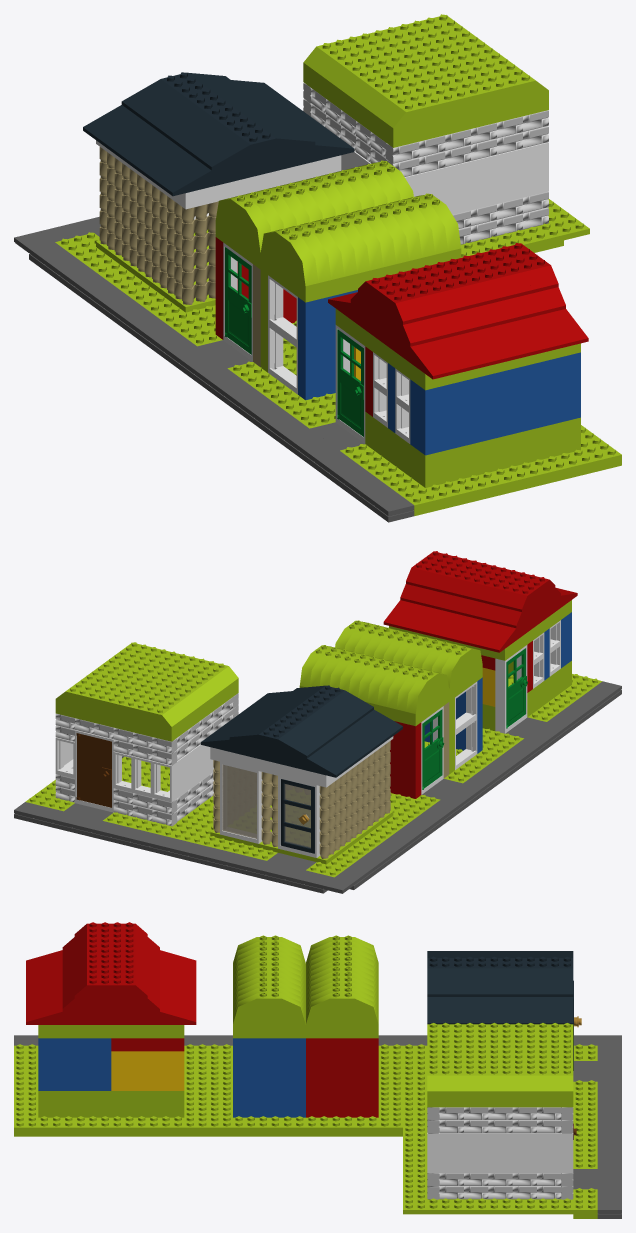
Rendered from Block5-lod2.fbx.
The picture shows the model from 3 angles, top to bottom: view 1: azimuth 30°, elevation 25°; view 2: azimuth 150°, elevation 25°; view 3: azimuth 270°, elevation 25°; orthographic projection. The views are drawn at different scales.
Parts seen in each view (by area): view 1: Material_119, Material_21, Material_26, Material_199, Material_1, Material_23, Material_5, Material_208, Material_28; view 2: Material_119, Material_199, Material_21, Material_26, Material_1, Material_5, Material_208, Material_111, Material_28, Material_192, Material_23, Material_24; view 3: Material_119, Material_21, Material_26, Material_23, Material_208, Material_199, Material_1, Material_24.
Part boxes in pixels (<box>): Material_119: <box>55,14,621,515</box>; Material_21: <box>215,237,588,416</box>; Material_26: <box>83,72,354,196</box>; Material_199: <box>14,216,414,522</box>; Material_1: <box>96,140,548,443</box>; Material_23: <box>298,290,580,455</box>; Material_5: <box>99,147,260,366</box>; Material_208: <box>303,83,548,244</box>; Material_28: <box>225,247,363,436</box>; Material_119: <box>25,600,602,877</box>; Material_199: <box>14,681,621,893</box>; Material_21: <box>383,551,577,798</box>; Material_26: <box>200,685,402,853</box>; Material_1: <box>55,620,560,857</box>; Material_5: <box>213,702,449,858</box>; Material_208: <box>55,693,238,826</box>; Material_111: <box>222,764,310,847</box>; Material_28: <box>422,648,527,789</box>; Material_192: <box>76,733,111,807</box>; Material_23: <box>424,612,571,753</box>; Material_24: <box>482,667,495,706</box>; Material_119: <box>14,935,597,1218</box>; Material_21: <box>26,922,378,1117</box>; Material_26: <box>427,951,573,1070</box>; Material_23: <box>38,1038,305,1117</box>; Material_208: <box>427,1107,573,1199</box>; Material_199: <box>14,1035,621,1218</box>; Material_1: <box>427,1133,573,1173</box>; Material_24: <box>111,1051,184,1090</box>.
Bounding box in the file's own units: 27.2 × 10.42 × 40.
